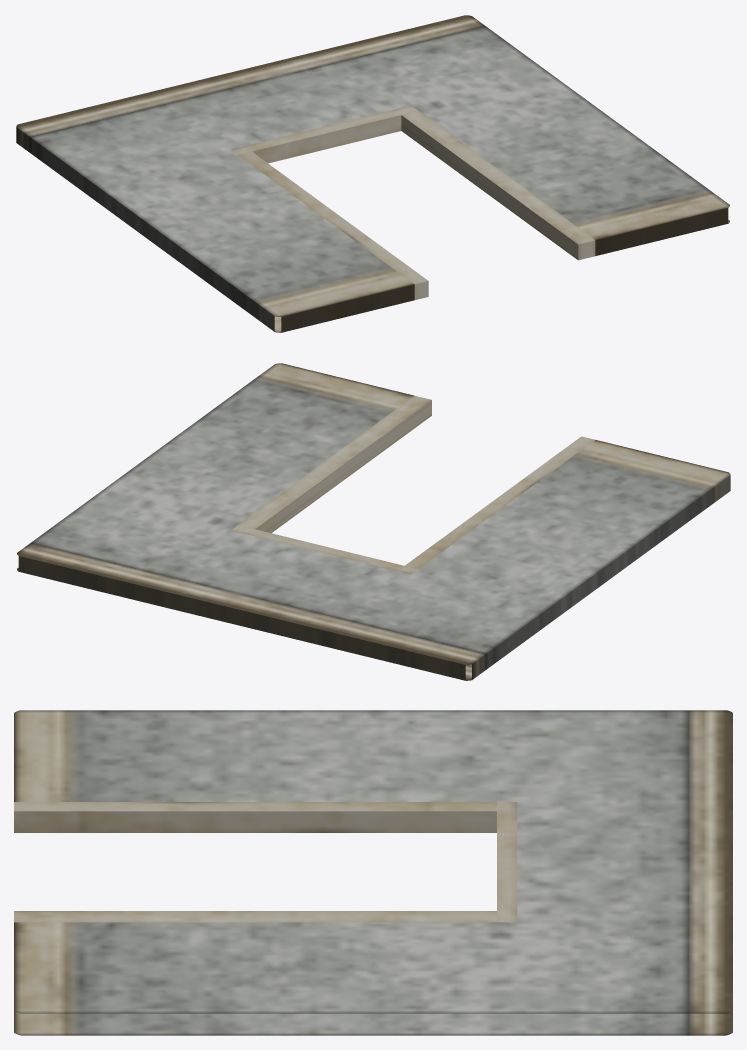
Rendered from SM_EC_House_Wall_DoorWay_3x3_4.fbx.
3 views of the same model, one above another, from view 1: azimuth 30°, elevation 25°; view 2: azimuth 150°, elevation 25°; view 3: azimuth 270°, elevation 25° (orthographic). The views are drawn at different scales.
Visible parts, largest first — view 1: SM_EC_House_Wall_DoorWay_3x3_4; view 2: SM_EC_House_Wall_DoorWay_3x3_4; view 3: SM_EC_House_Wall_DoorWay_3x3_4.
Part boxes in pixels (bbox=[...]): SM_EC_House_Wall_DoorWay_3x3_4: bbox=[16, 15, 729, 332]; SM_EC_House_Wall_DoorWay_3x3_4: bbox=[17, 363, 730, 680]; SM_EC_House_Wall_DoorWay_3x3_4: bbox=[14, 710, 732, 1035].
Bounding box in the file's own units: 3 × 3 × 0.1.
